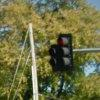Traffic light: (45, 20, 80, 73)
